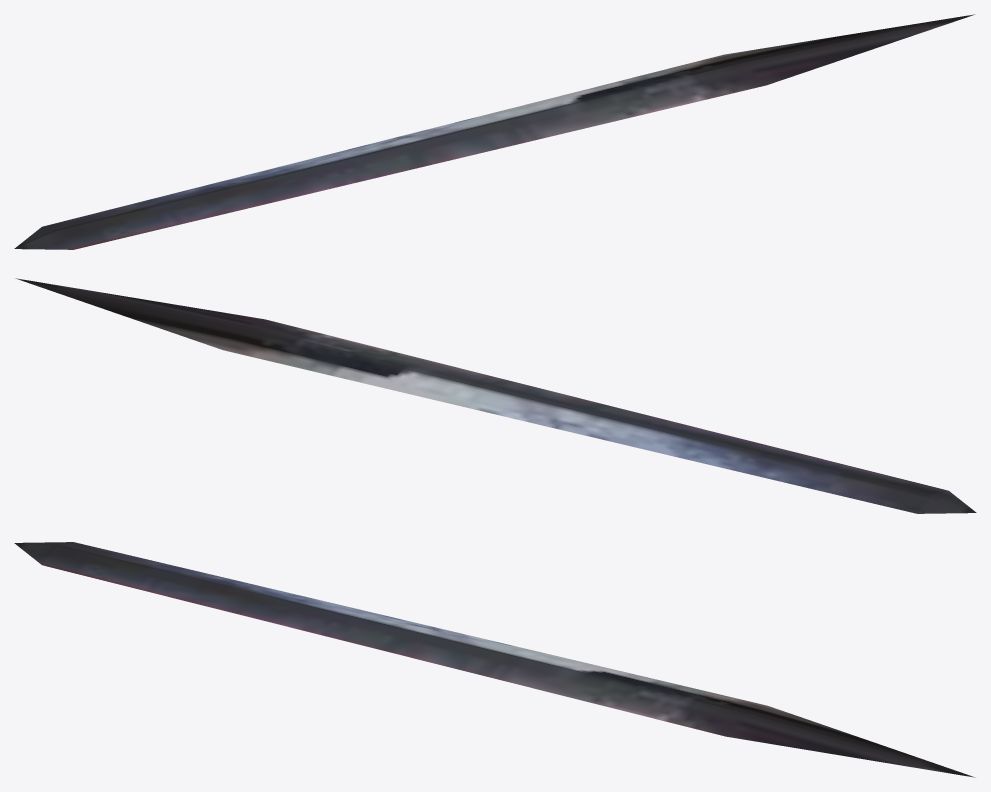
File: NIENAOSTRZONE_STALOWE_OSTRZE.glb
3 renders of one model, top to bottom at view 1: azimuth 30°, elevation 25°; view 2: azimuth 150°, elevation 25°; view 3: azimuth 330°, elevation 25°, orthographic.
Parts seen in each view (by area): view 1: NIENAOSTRZONE_STALOWE_OSTRZE; view 2: NIENAOSTRZONE_STALOWE_OSTRZE; view 3: NIENAOSTRZONE_STALOWE_OSTRZE.
Part boxes in pixels (box(x1,y1,x2,y2)): NIENAOSTRZONE_STALOWE_OSTRZE: box(14, 14, 975, 249); NIENAOSTRZONE_STALOWE_OSTRZE: box(15, 278, 976, 513); NIENAOSTRZONE_STALOWE_OSTRZE: box(14, 542, 975, 777).
Size of the model in its own units: 1.05 by 0.016 by 0.08.
1 material, 1 textured.
